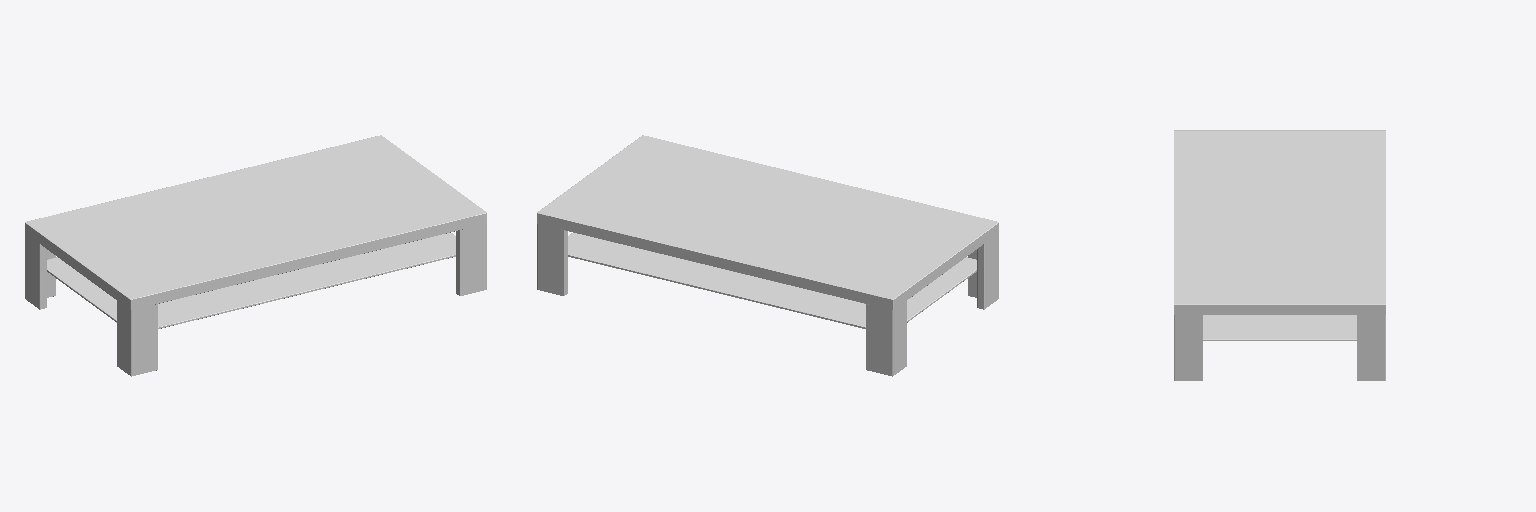
Rendered from VirtualGramophoneSuite.obj.
3 views of the same model, side by side, from view 1: azimuth 30°, elevation 25°; view 2: azimuth 150°, elevation 25°; view 3: azimuth 270°, elevation 25° (orthographic).
Visible parts, largest first — view 1: VirtualGramophoneSuite; view 2: VirtualGramophoneSuite; view 3: VirtualGramophoneSuite.
Part boxes in pixels (x1,y1,x2,y2): VirtualGramophoneSuite: (25,135,486,376); VirtualGramophoneSuite: (537,135,998,376); VirtualGramophoneSuite: (1174,130,1385,380).
Size of the model in its own units: 2.82 by 0.5842 by 1.46.